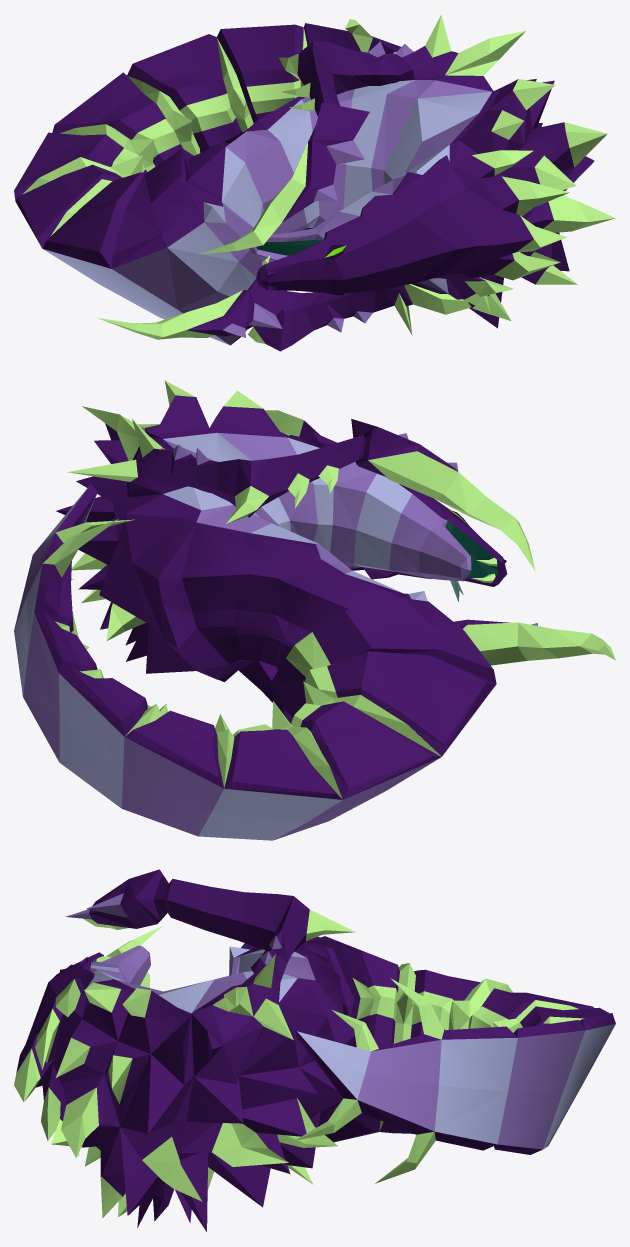
3 renders of one model, top to bottom at view 1: azimuth 30°, elevation 25°; view 2: azimuth 150°, elevation 25°; view 3: azimuth 270°, elevation 25°, orthographic. The views are drawn at different scales.
Visible parts, largest first — view 1: Alien_Serpent; view 2: Alien_Serpent; view 3: Alien_Serpent.
Boxes of the visible parts, <box> form: Alien_Serpent: <box>14,15,615,351</box>; Alien_Serpent: <box>14,380,615,840</box>; Alien_Serpent: <box>14,869,615,1231</box>.
Bounding box in the file's own units: 240 × 140 × 241.
1 material, 1 textured.
